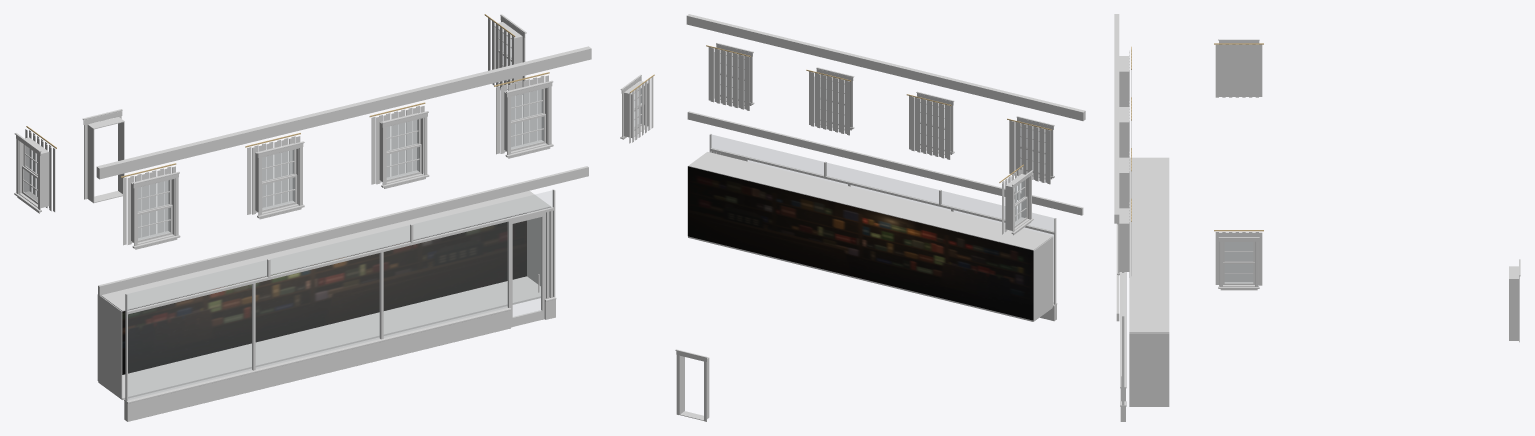
The model's file is SM_Town_Clothing_Trim.fbx.
The picture shows the model from 3 angles, left to right: view 1: azimuth 30°, elevation 25°; view 2: azimuth 150°, elevation 25°; view 3: azimuth 270°, elevation 25°; orthographic projection. The views are drawn at different scales.
Parts seen in each view (by area): view 1: SM_Town_Clothing_Trim_1; view 2: SM_Town_Clothing_Trim_1; view 3: SM_Town_Clothing_Trim_1.
Boxes of the visible parts, x1=… form: SM_Town_Clothing_Trim_1: x1=14, y1=14, x2=591, y2=421; SM_Town_Clothing_Trim_1: x1=620, y1=14, x2=1085, y2=421; SM_Town_Clothing_Trim_1: x1=1114, y1=14, x2=1520, y2=421.
Size of the model in its own units: 1424 by 730 by 1220.
